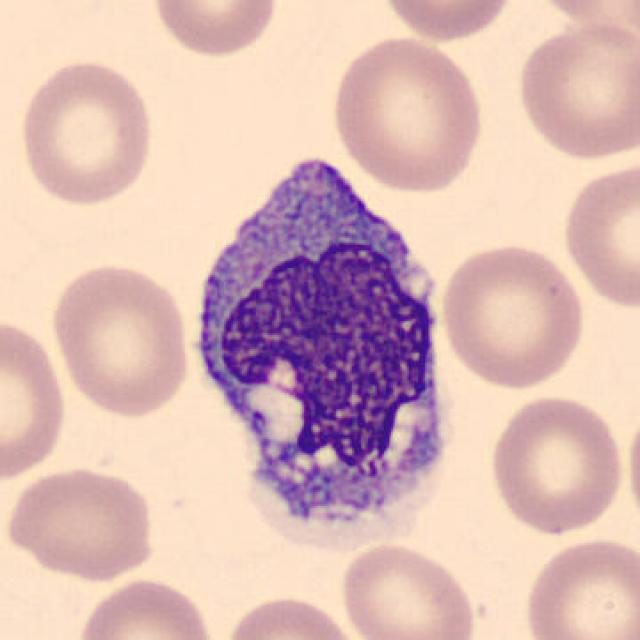Monocyte: (181, 131, 459, 554)
RBC: (327, 34, 487, 195), (46, 259, 194, 420), (436, 240, 588, 391), (14, 55, 158, 208), (483, 390, 628, 538), (512, 12, 638, 164), (2, 464, 160, 584), (334, 539, 480, 640), (556, 155, 638, 314), (519, 534, 638, 640), (0, 312, 69, 485), (73, 575, 222, 640), (146, 0, 282, 60), (220, 590, 362, 640), (375, 0, 519, 44), (524, 0, 639, 33), (624, 397, 640, 538)
